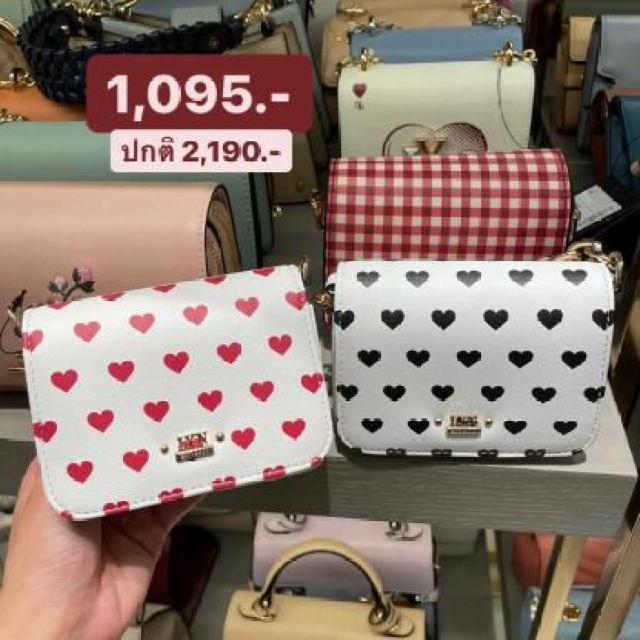Bag: (27, 262, 341, 541), (321, 214, 640, 473)
